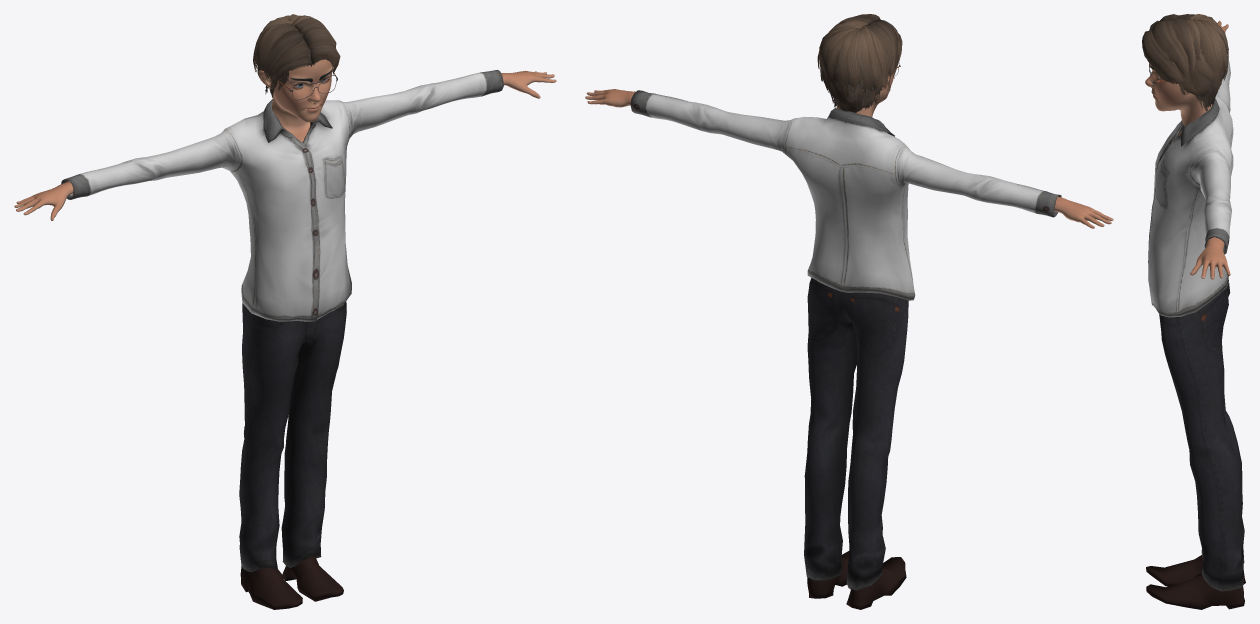
Rendered from Carita 2.obj.
The picture shows the model from 3 angles, left to right: view 1: azimuth 30°, elevation 25°; view 2: azimuth 150°, elevation 25°; view 3: azimuth 270°, elevation 25°; orthographic projection. The views are drawn at different scales.
Parts seen in each view (by area): view 1: Tops, Bottoms, Body, Hair, Shoes; view 2: Tops, Bottoms, Hair, Shoes, Body; view 3: Tops, Bottoms, Hair, Shoes, Body.
Part boxes in pixels (bbox=[...]): Tops: bbox=[61, 70, 503, 321]; Bottoms: bbox=[239, 301, 346, 572]; Body: bbox=[14, 22, 556, 220]; Hair: bbox=[253, 14, 340, 97]; Shoes: bbox=[240, 556, 343, 609]; Tops: bbox=[630, 90, 1061, 300]; Bottoms: bbox=[804, 278, 908, 590]; Hair: bbox=[817, 14, 902, 112]; Shoes: bbox=[807, 551, 906, 609]; Body: bbox=[585, 23, 1113, 228]; Tops: bbox=[1148, 42, 1233, 317]; Bottoms: bbox=[1159, 278, 1244, 591]; Hair: bbox=[1142, 14, 1228, 111]; Shoes: bbox=[1146, 555, 1245, 609]; Body: bbox=[1145, 20, 1230, 279].
Bounding box in the file's own units: 163 × 168 × 27.4.
Materials: 2 (2 with a texture image).
